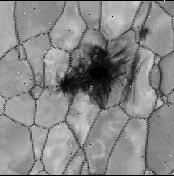good_void: (54, 40, 130, 112), (118, 52, 146, 109), (136, 24, 151, 45), (37, 156, 44, 164), (43, 83, 49, 92)
